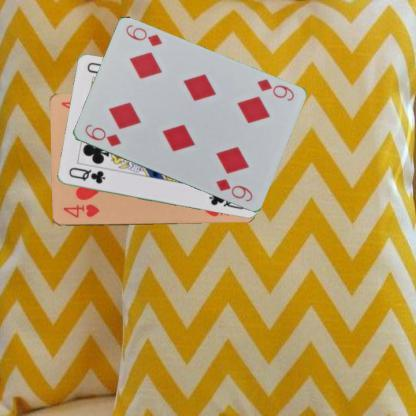4h: (61, 202, 100, 220)
6d: (254, 76, 296, 102), (82, 122, 122, 148)
Qc: (66, 164, 106, 186)
